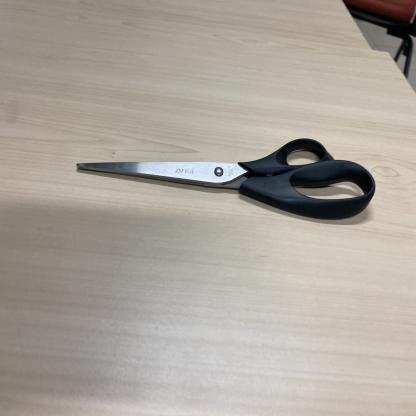scissors: (76, 138, 376, 219)
